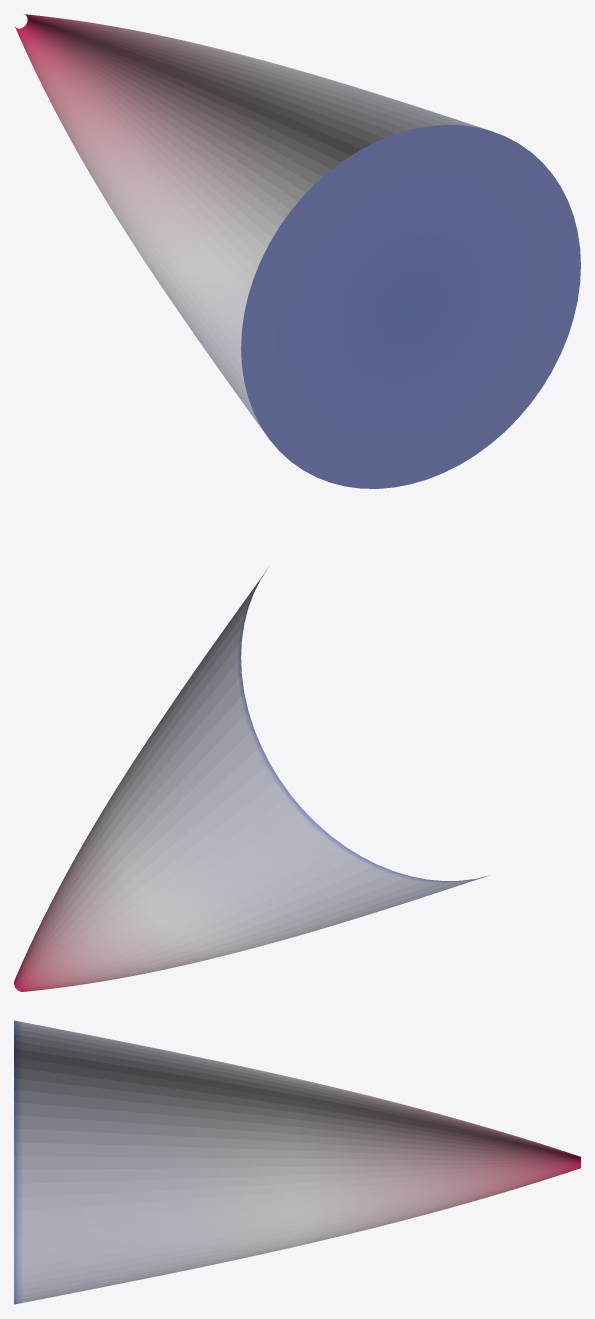
File: frame_001.glb
3 renders of one model, top to bottom at view 1: azimuth 30°, elevation 25°; view 2: azimuth 150°, elevation 25°; view 3: azimuth 270°, elevation 25°, orthographic. The views are drawn at different scales.
Parts seen in each view (by area): view 1: world; view 2: world; view 3: world.
Part boxes in pixels (bbox=[...]): world: bbox=[15, 14, 580, 488]; world: bbox=[14, 569, 488, 991]; world: bbox=[14, 1020, 580, 1304].
Size of the model in its own units: 0.5029 by 0.5015 by 1.
